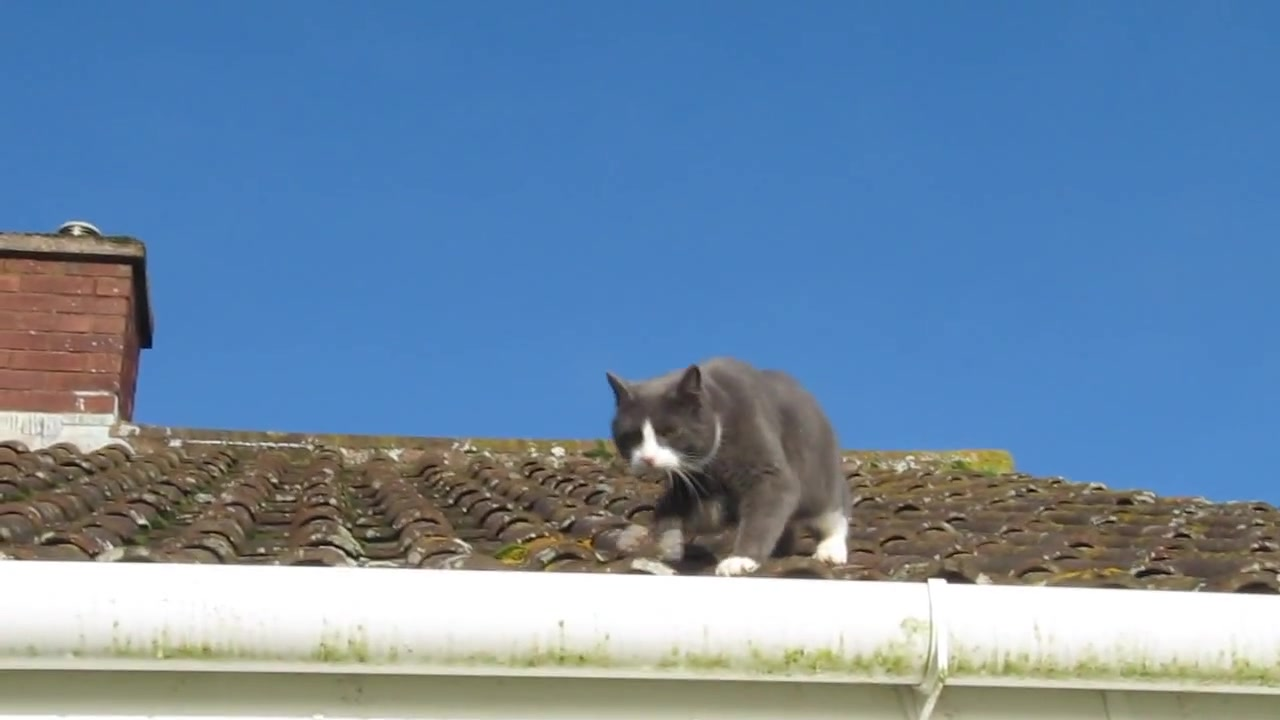cat: (603, 348, 854, 572)
